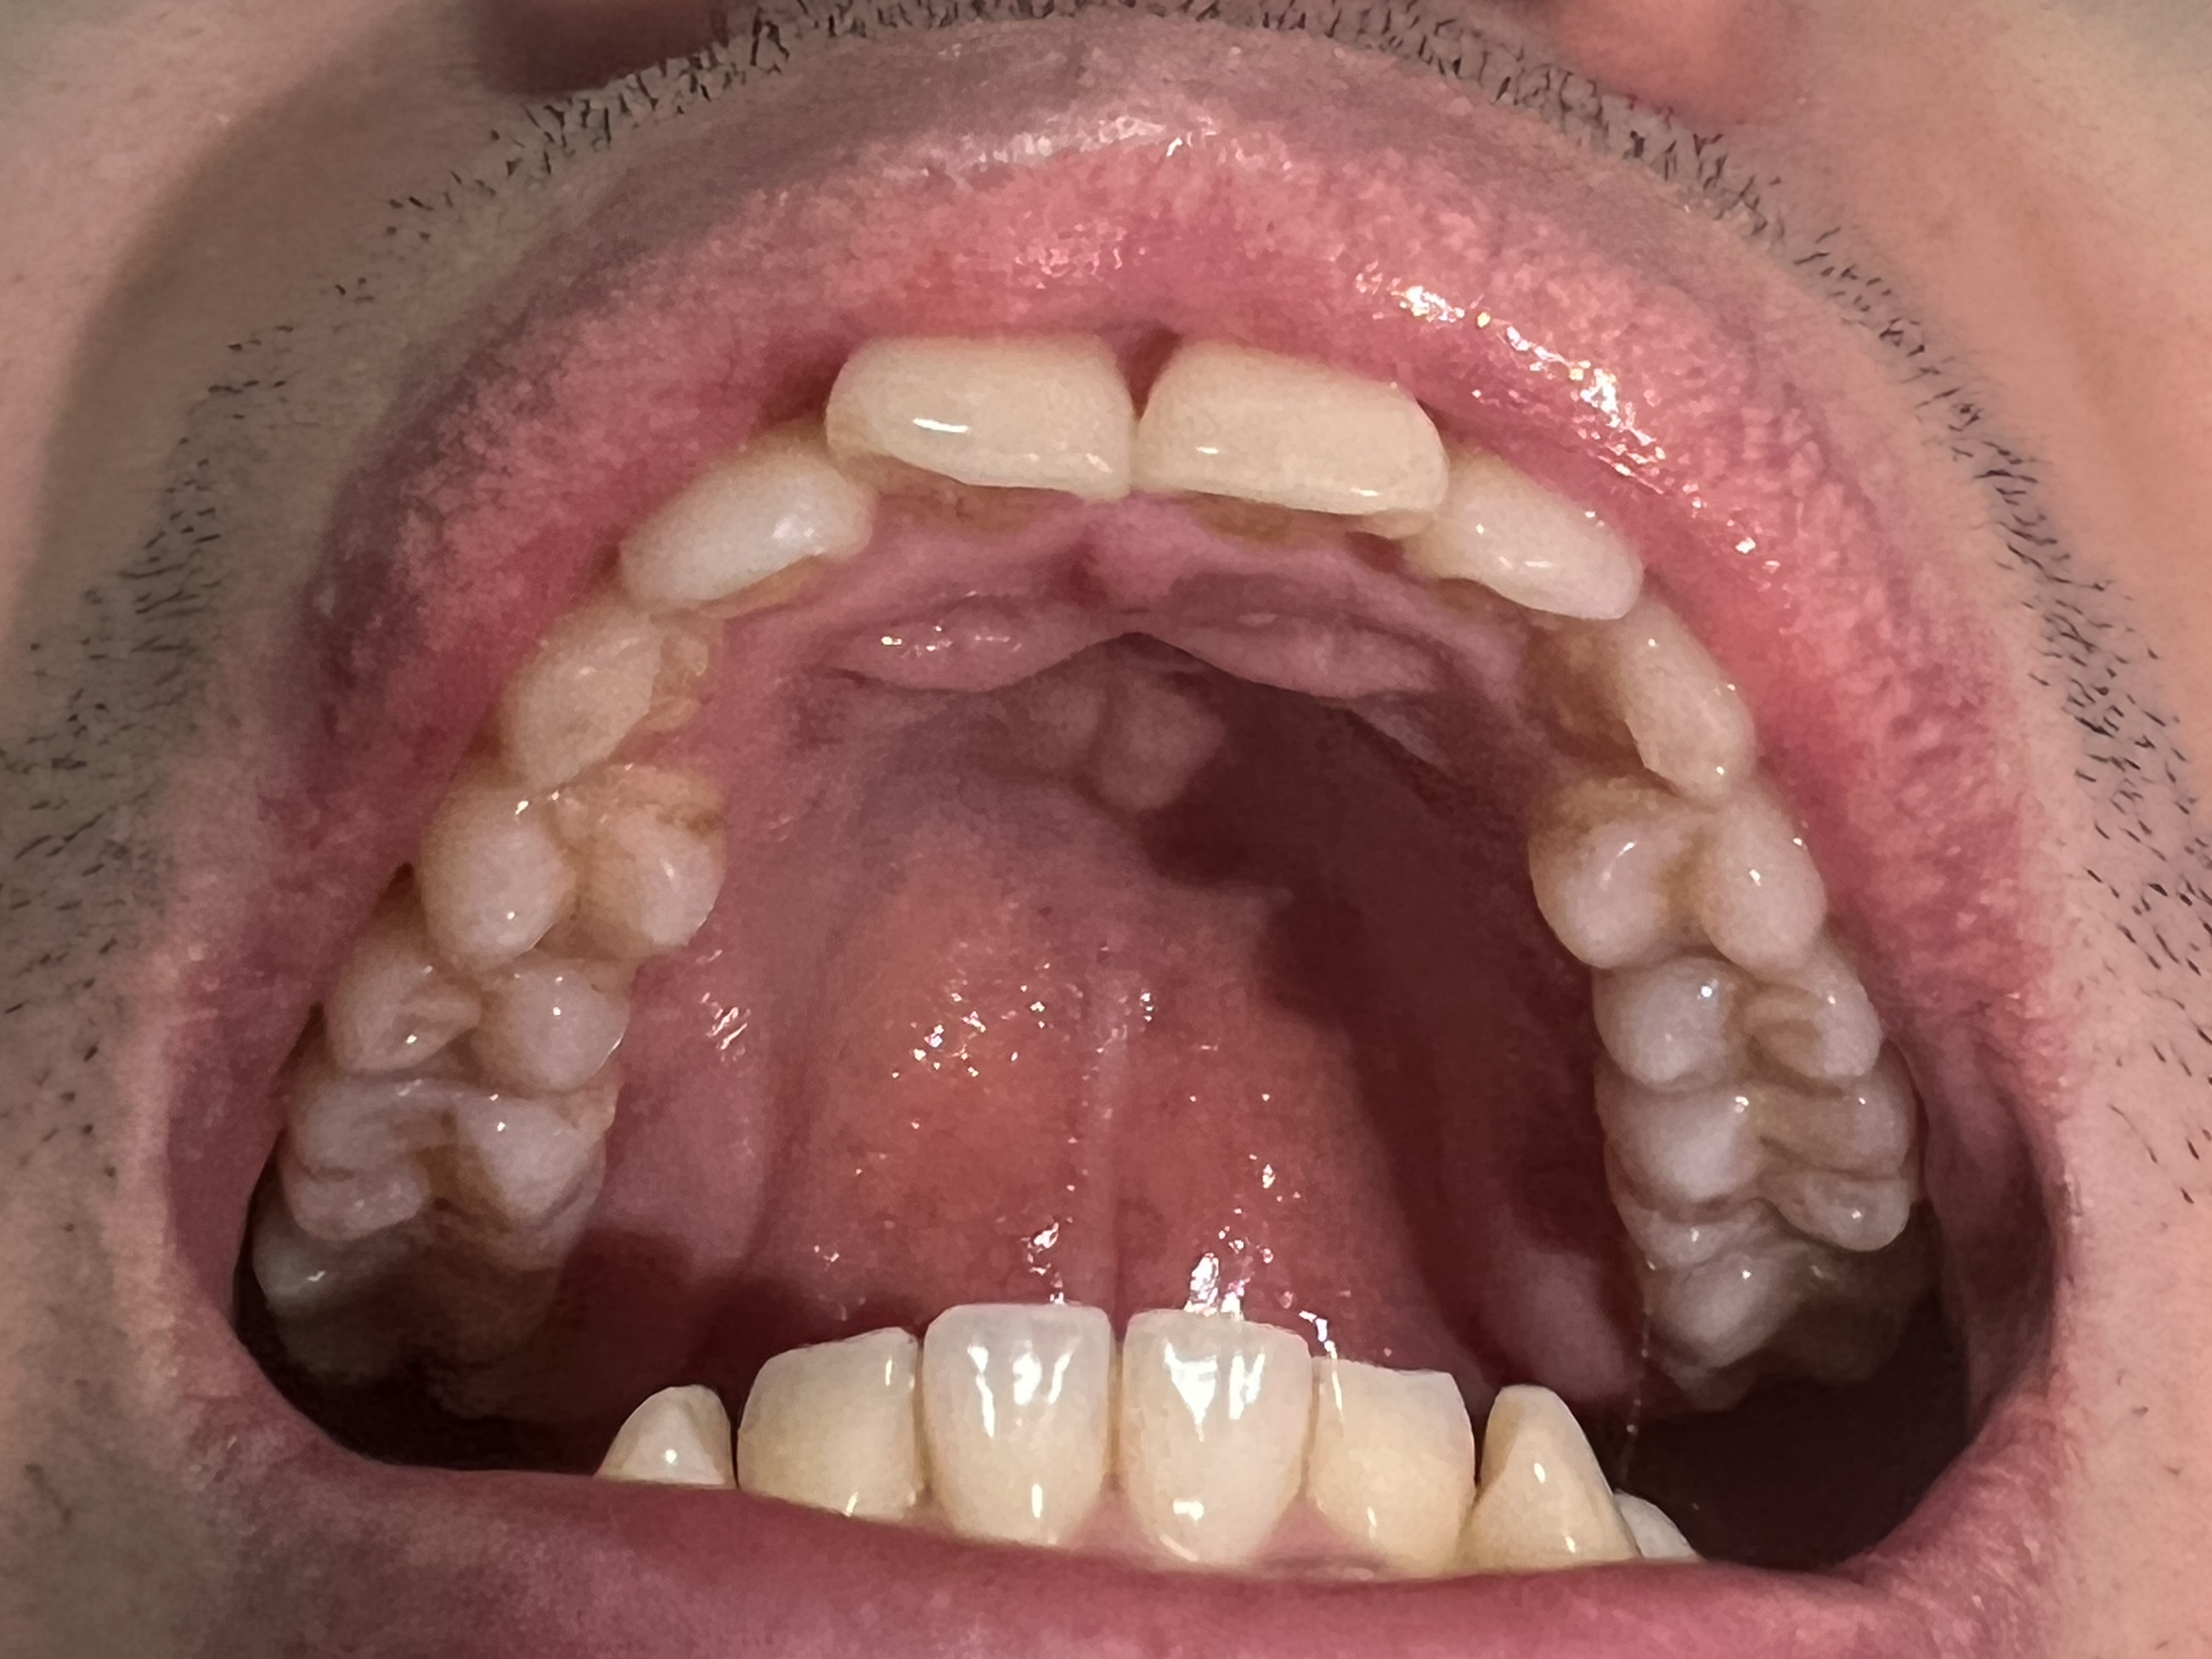teeth: (301, 1066, 606, 1265), (1527, 784, 1825, 972), (434, 777, 723, 960), (1136, 340, 1437, 514), (1592, 1098, 1911, 1260), (631, 422, 887, 613), (833, 319, 1116, 491), (329, 924, 615, 1089), (1130, 1316, 1310, 1563), (263, 1227, 550, 1380), (1526, 608, 1747, 802), (1597, 955, 1895, 1098), (925, 1304, 1104, 1530), (1665, 1260, 1935, 1408), (1414, 455, 1639, 626), (738, 1331, 918, 1514), (500, 582, 671, 765), (1317, 1364, 1474, 1563), (1480, 1392, 1639, 1572), (603, 1392, 730, 1480), (1613, 1488, 1700, 1551)
